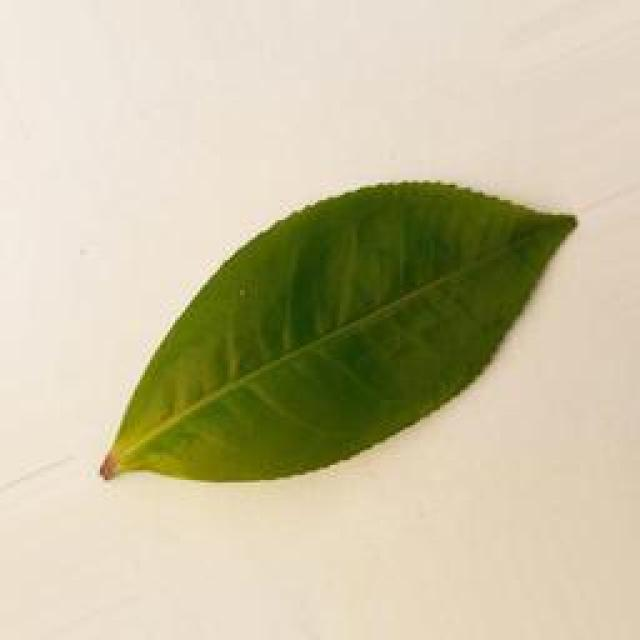Healthy: (99, 166, 587, 493)
